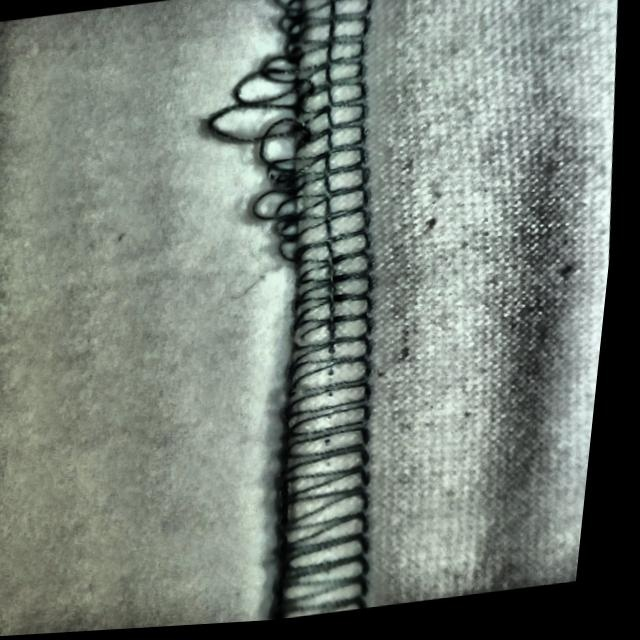Stitch: (175, 0, 411, 285)
